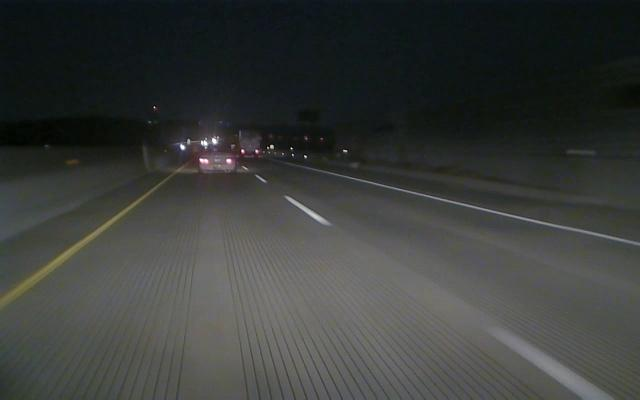lane: (257, 174, 621, 400), (335, 173, 639, 247), (2, 194, 146, 309)
